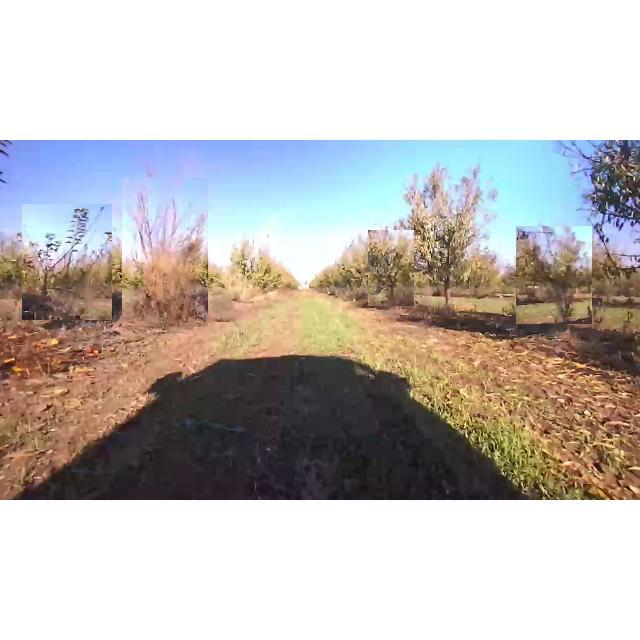tree: (399, 157, 496, 310), (122, 178, 208, 326), (22, 204, 112, 320), (516, 226, 592, 324), (368, 230, 414, 306), (227, 239, 263, 299)
